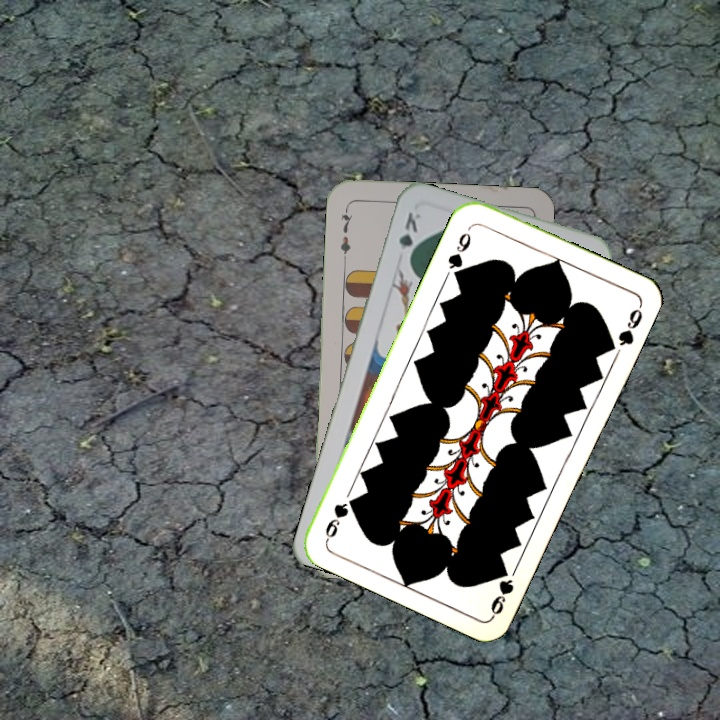E7: (336, 203, 356, 262)
G9: (443, 222, 474, 282), (486, 564, 517, 619)
GK: (394, 208, 424, 266)
